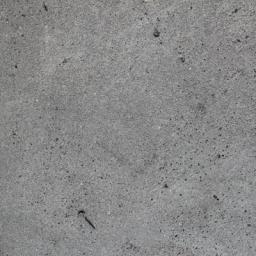FOD: (77, 210, 99, 232)
